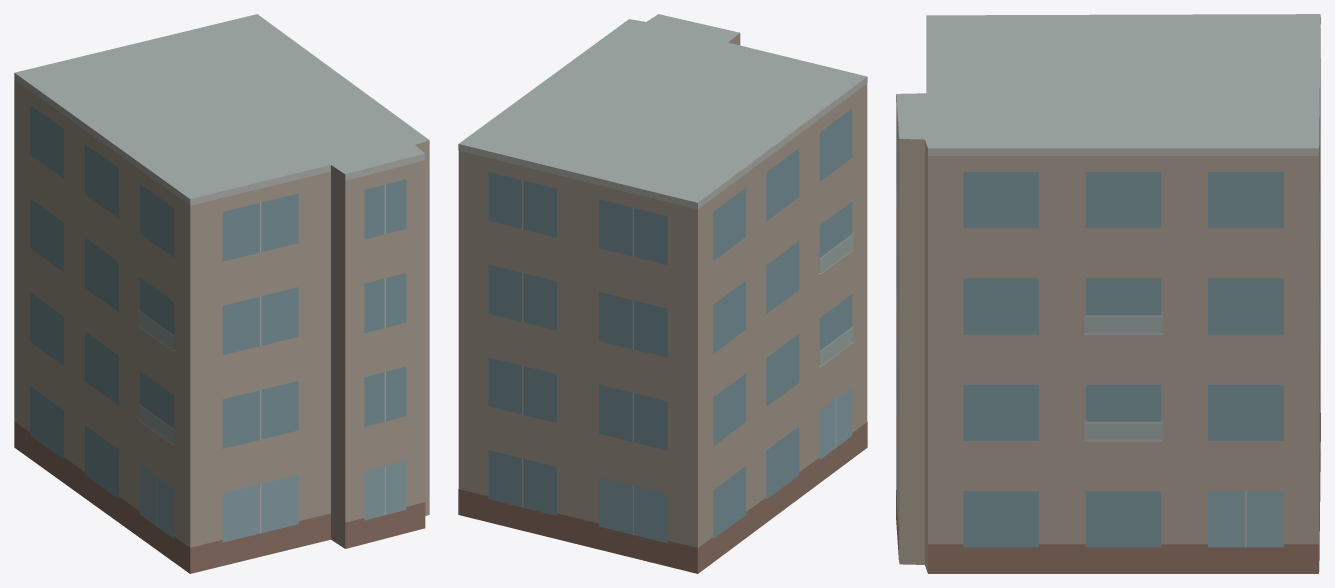
Rendered from survey-upis-32487849.glb.
3 renders of one model, left to right at view 1: azimuth 30°, elevation 25°; view 2: azimuth 150°, elevation 25°; view 3: azimuth 270°, elevation 25°, orthographic. The views are drawn at different scales.
Parts seen in each view (by area): view 1: survey-upis-32487849.tmp; view 2: survey-upis-32487849.tmp; view 3: survey-upis-32487849.tmp.
Part boxes in pixels (box(x1,y1,x2,y2)): survey-upis-32487849.tmp: box(14, 14, 429, 573); survey-upis-32487849.tmp: box(458, 14, 867, 573); survey-upis-32487849.tmp: box(896, 14, 1320, 573).
Bounding box in the file's own units: 9.32 × 13.7 × 12.39.
